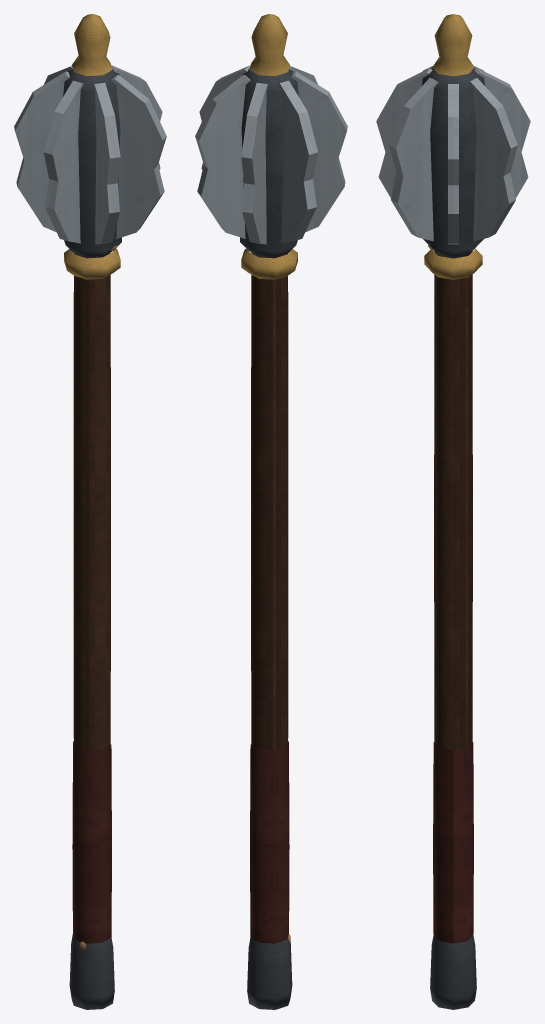
Rendered from flanged-mace.lod2.glb.
The picture shows the model from 3 angles, left to right: view 1: azimuth 30°, elevation 25°; view 2: azimuth 150°, elevation 25°; view 3: azimuth 270°, elevation 25°; orthographic projection.
Visible parts, largest first — view 1: steel / forged blade steel, wood / oiled hardwood, leather / oiled leather wrap, darksteel / oil-blackened fittings, brass / polished brass furniture; view 2: steel / forged blade steel, wood / oiled hardwood, leather / oiled leather wrap, darksteel / oil-blackened fittings, brass / polished brass furniture; view 3: wood / oiled hardwood, steel / forged blade steel, darksteel / oil-blackened fittings, leather / oiled leather wrap, brass / polished brass furniture.
Part boxes in pixels (x1,y1,x2,y2): steel / forged blade steel: (14,65,166,244); wood / oiled hardwood: (73,253,110,750); leather / oiled leather wrap: (72,740,111,943); darksteel / oil-blackened fittings: (63,68,121,1009); brass / polished brass furniture: (64,14,120,279); steel / forged blade steel: (195,65,347,244); wood / oiled hardwood: (251,253,288,750); leather / oiled leather wrap: (250,740,289,943); darksteel / oil-blackened fittings: (240,68,298,1009); brass / polished brass furniture: (241,14,297,279); wood / oiled hardwood: (434,251,472,750); steel / forged blade steel: (376,66,530,244); darksteel / oil-blackened fittings: (422,68,484,1009); leather / oiled leather wrap: (433,742,473,943); brass / polished brass furniture: (424,14,482,279).
Bounding box in the file's own units: 0.1275 × 0.922 × 0.1308.
6 materials, 5 textured.
